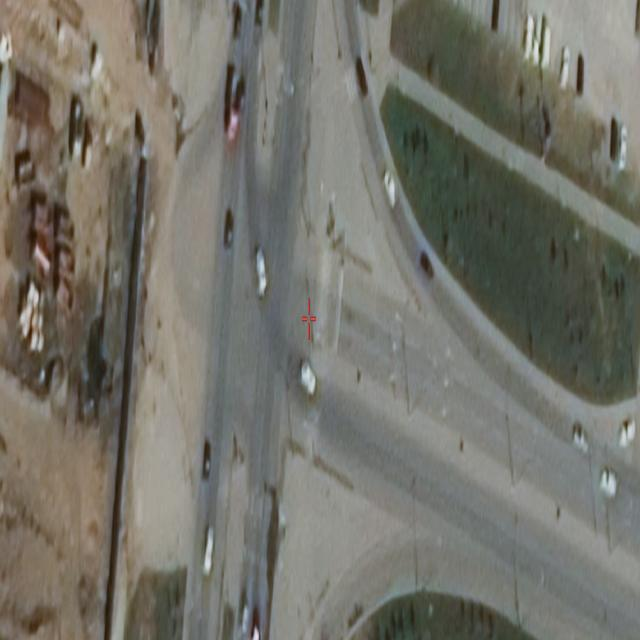road: (182, 0, 640, 640)
